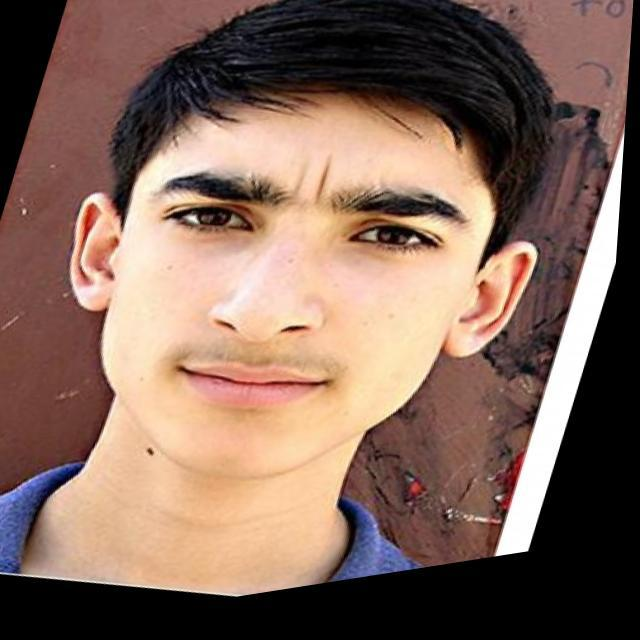Nonhelmet: (65, 0, 555, 482)
